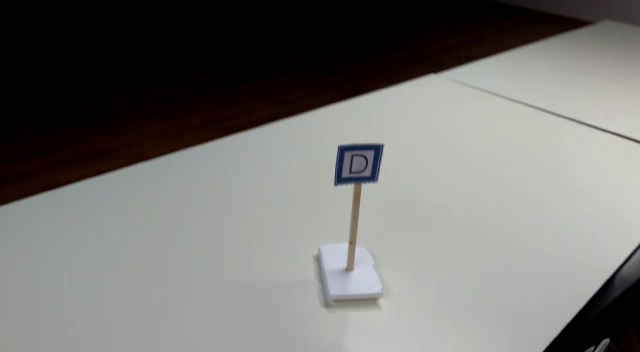durak: (333, 142, 384, 185)
